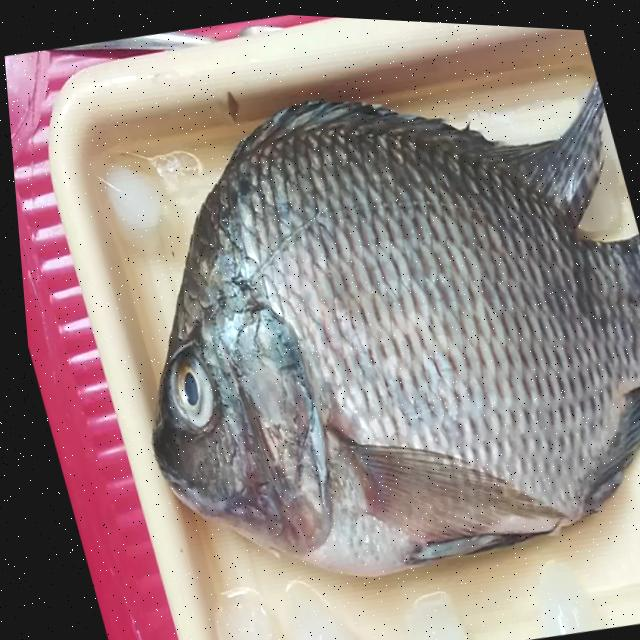Fresh: (167, 56, 637, 598), (146, 329, 220, 438)
